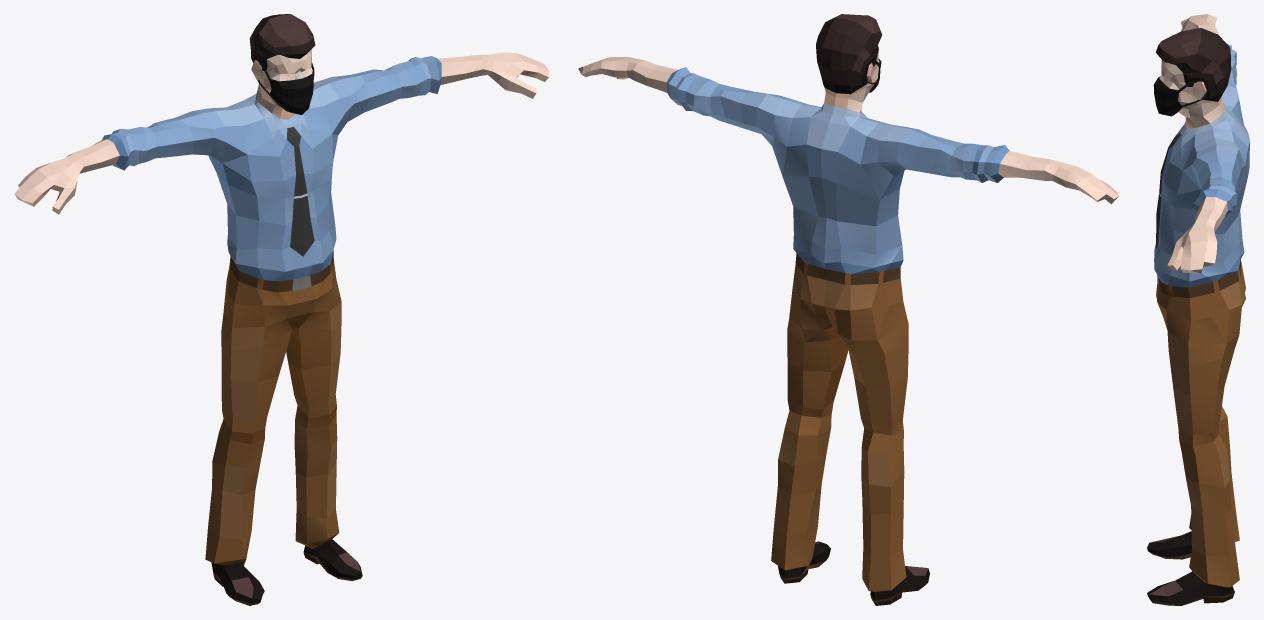
File: office_Male_A-model.obj
3 views of the same model, side by side, from view 1: azimuth 30°, elevation 25°; view 2: azimuth 150°, elevation 25°; view 3: azimuth 270°, elevation 25° (orthographic). The views are drawn at different scales.
Parts seen in each view (by area): view 1: office_Male_A, acc_mask_black; view 2: office_Male_A; view 3: office_Male_A, acc_mask_black.
Part boxes in pixels (bbox=[...]): office_Male_A: bbox=[14, 14, 549, 605]; acc_mask_black: bbox=[257, 60, 314, 114]; office_Male_A: bbox=[578, 14, 1118, 605]; office_Male_A: bbox=[1147, 14, 1249, 605]; acc_mask_black: bbox=[1153, 76, 1207, 116].
Bounding box in the file's own units: 168 × 169 × 28.97.
